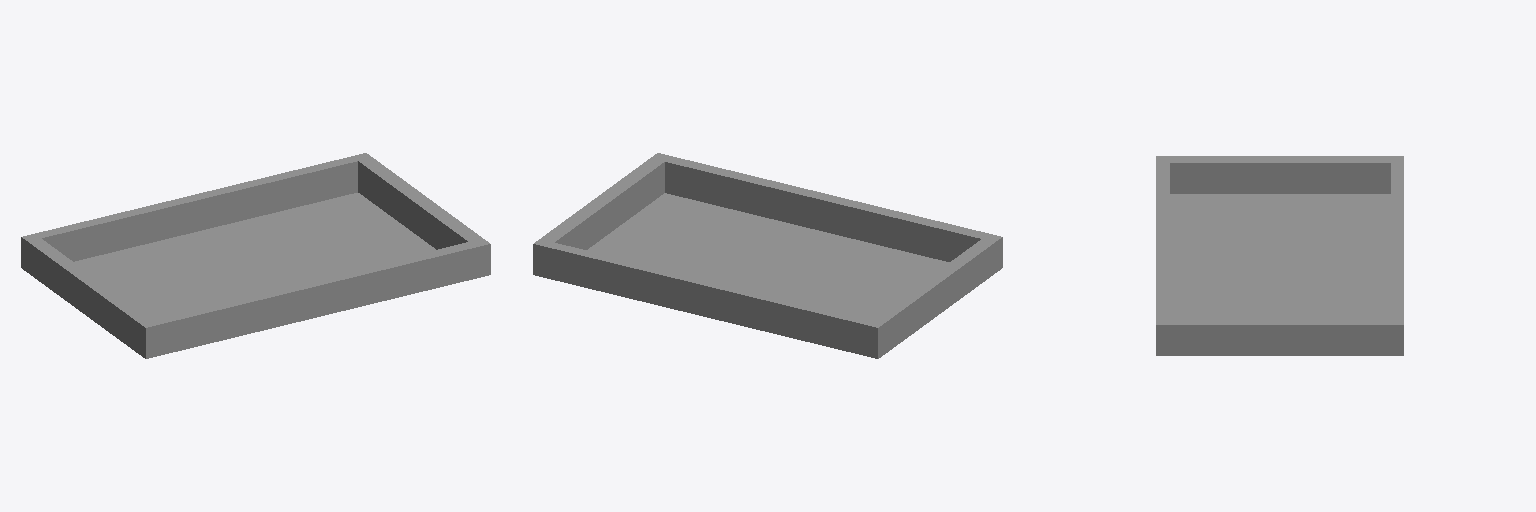
Rendered from HockeyTable.obj.
3 views of the same model, side by side, from view 1: azimuth 30°, elevation 25°; view 2: azimuth 150°, elevation 25°; view 3: azimuth 270°, elevation 25° (orthographic).
Parts seen in each view (by area): view 1: Cube; view 2: Cube; view 3: Cube.
Boxes of the visible parts, <box> form: Cube: <box>21,153,490,358</box>; Cube: <box>533,153,1002,358</box>; Cube: <box>1156,156,1403,355</box>.
Size of the model in its own units: 3.61 by 0.3123 by 2.25.